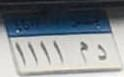1: (17, 38, 27, 69), (27, 38, 38, 66), (56, 38, 63, 67), (44, 38, 51, 65)
د: (93, 35, 107, 64)
م: (77, 41, 88, 64)
